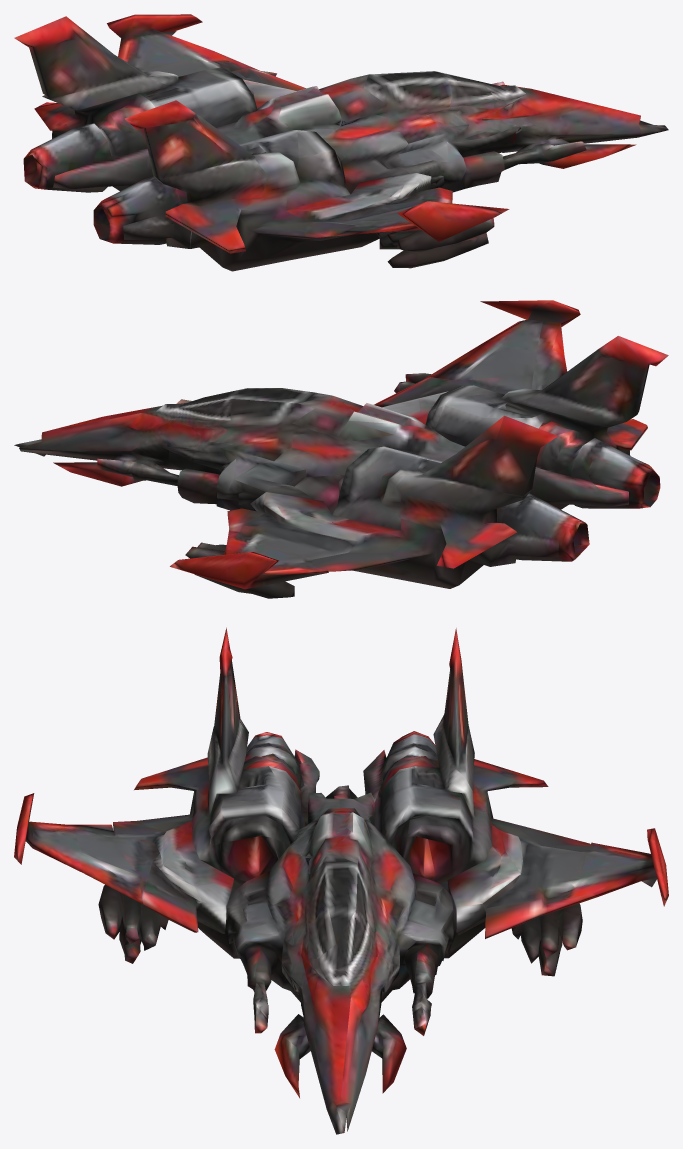
File: pike_lod.glb
3 views of the same model, one above another, from view 1: azimuth 30°, elevation 25°; view 2: azimuth 150°, elevation 25°; view 3: azimuth 270°, elevation 25° (orthographic). The views are drawn at different scales.
Visible parts, largest first — view 1: tripo_node_190f85a6-8a3f-44c7-9c5b-dd9f3889dcf9; view 2: tripo_node_190f85a6-8a3f-44c7-9c5b-dd9f3889dcf9; view 3: tripo_node_190f85a6-8a3f-44c7-9c5b-dd9f3889dcf9.
Part boxes in pixels (x1=…): tripo_node_190f85a6-8a3f-44c7-9c5b-dd9f3889dcf9: x1=14, y1=14, x2=668, y2=271; tripo_node_190f85a6-8a3f-44c7-9c5b-dd9f3889dcf9: x1=14, y1=300, x2=668, y2=598; tripo_node_190f85a6-8a3f-44c7-9c5b-dd9f3889dcf9: x1=14, y1=627, x2=668, y2=1134.
Bounding box in the file's own units: 0.9849 × 0.3243 × 0.8933.
Materials: 1 (1 with a texture image).
